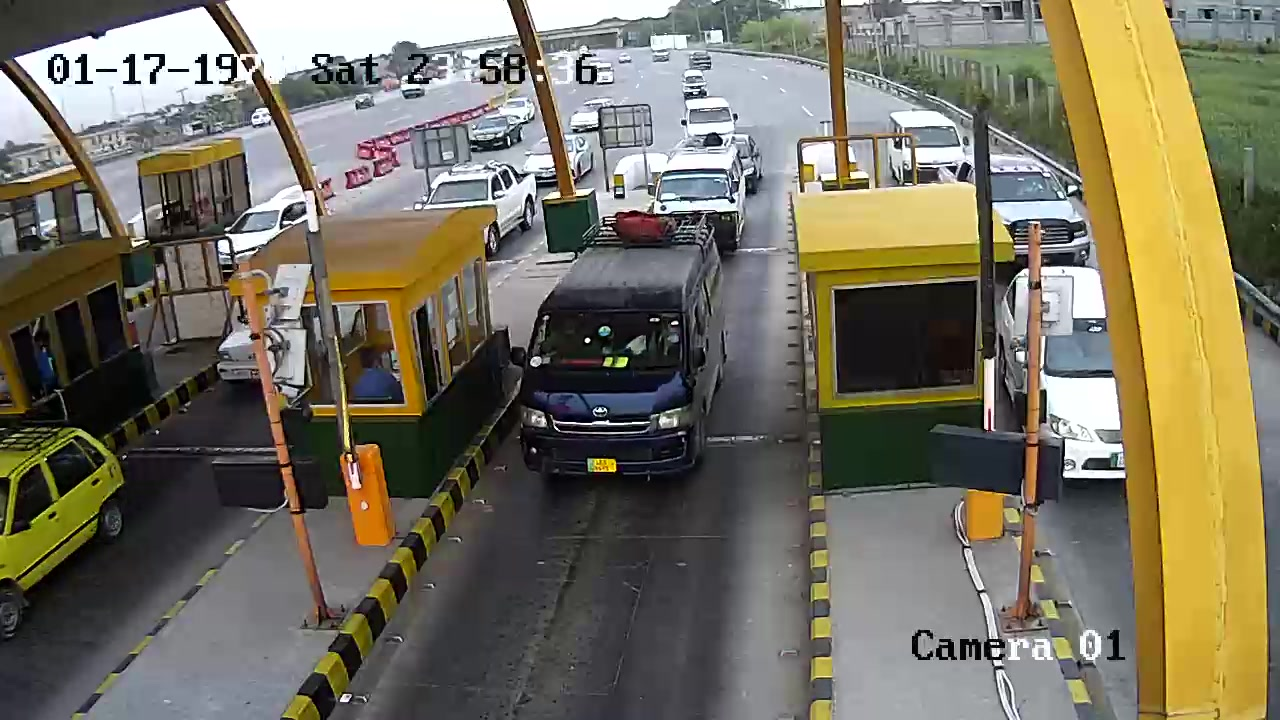F2: (505, 221, 734, 503)
